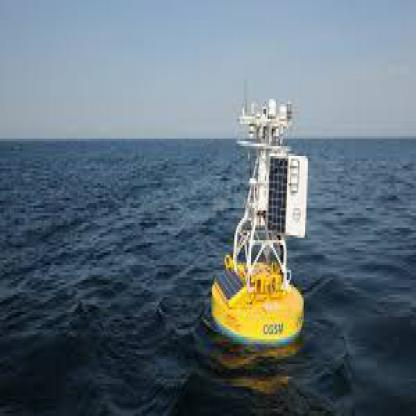buoy: (197, 82, 323, 342)
